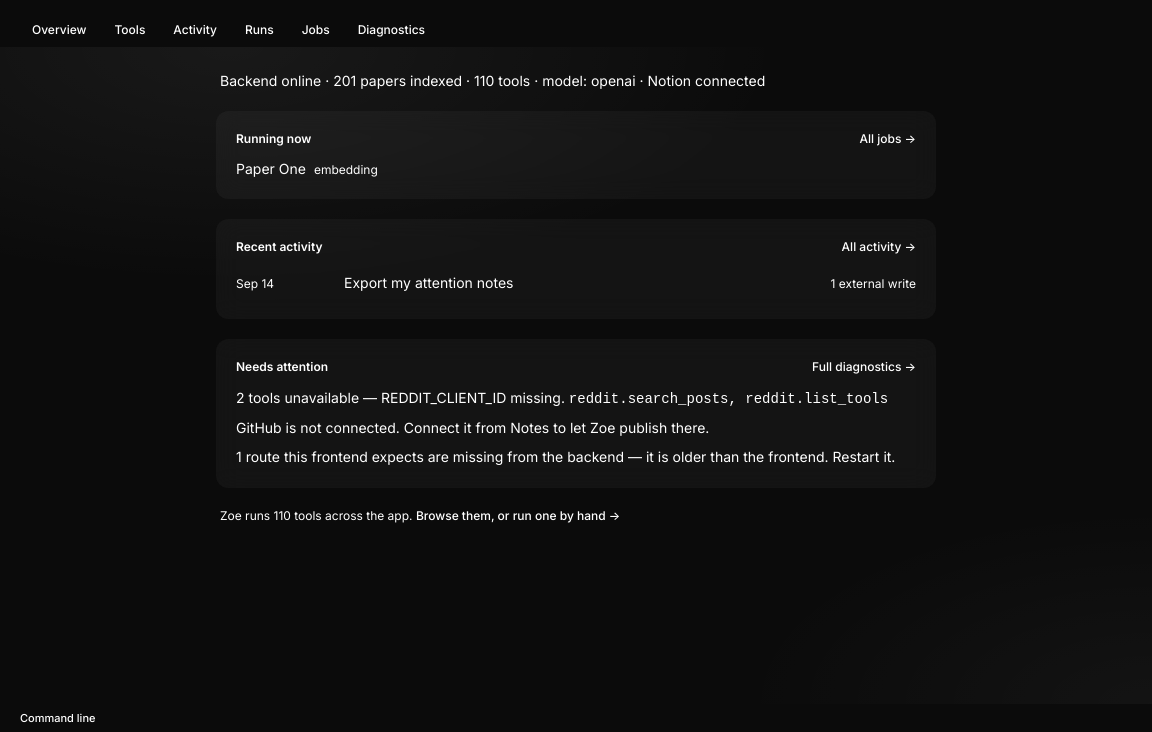
Test: ConsoleView › redirects plain language to Zoe instead of guessing
Check: the text with test id "overview-status" is shown, box [220,72,765,89]
Click the button "Command line" at (58,718), box [20,710,96,726]
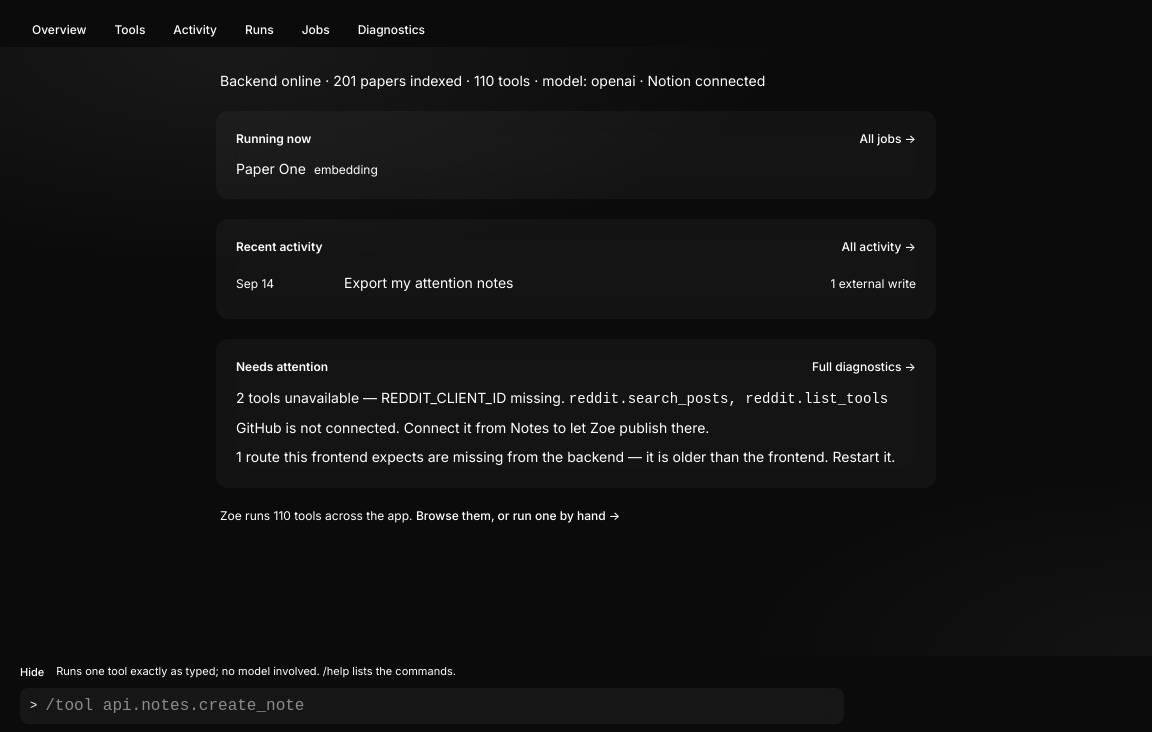
Type "which papers do I have about diffusion?" into the field named "Console command" at (440,706), box [45,694,834,718]
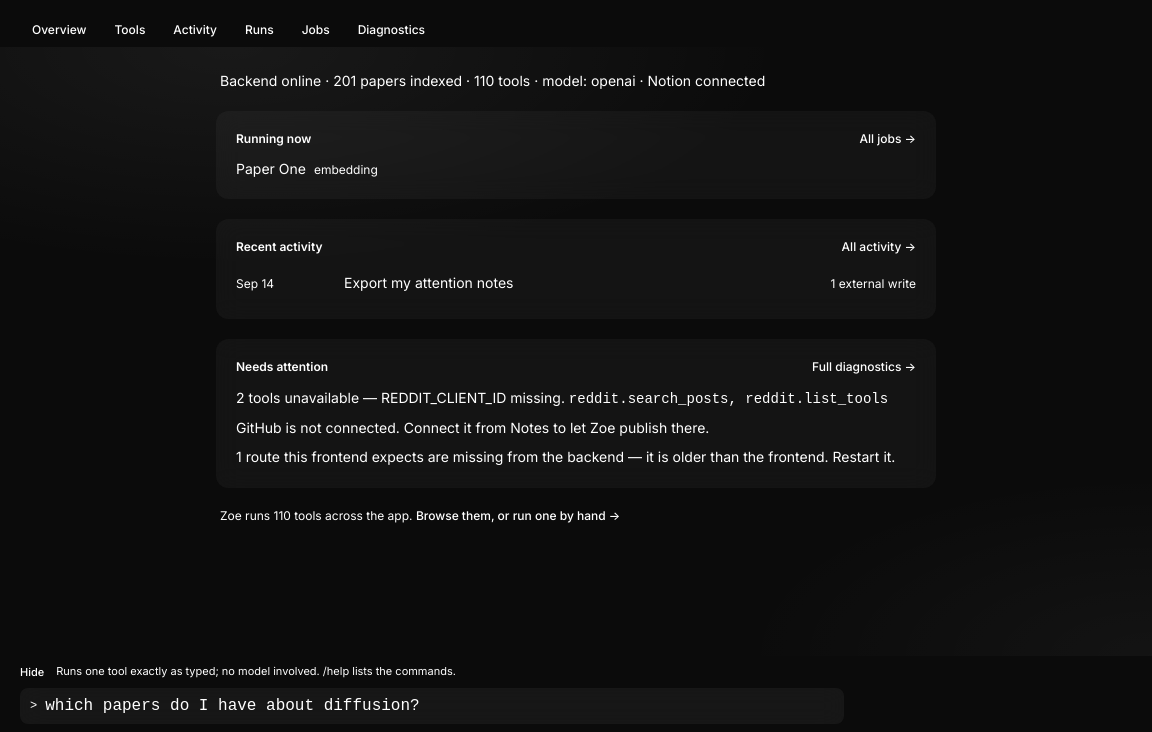
Submit the form named "Console command", box [0,680,864,731]
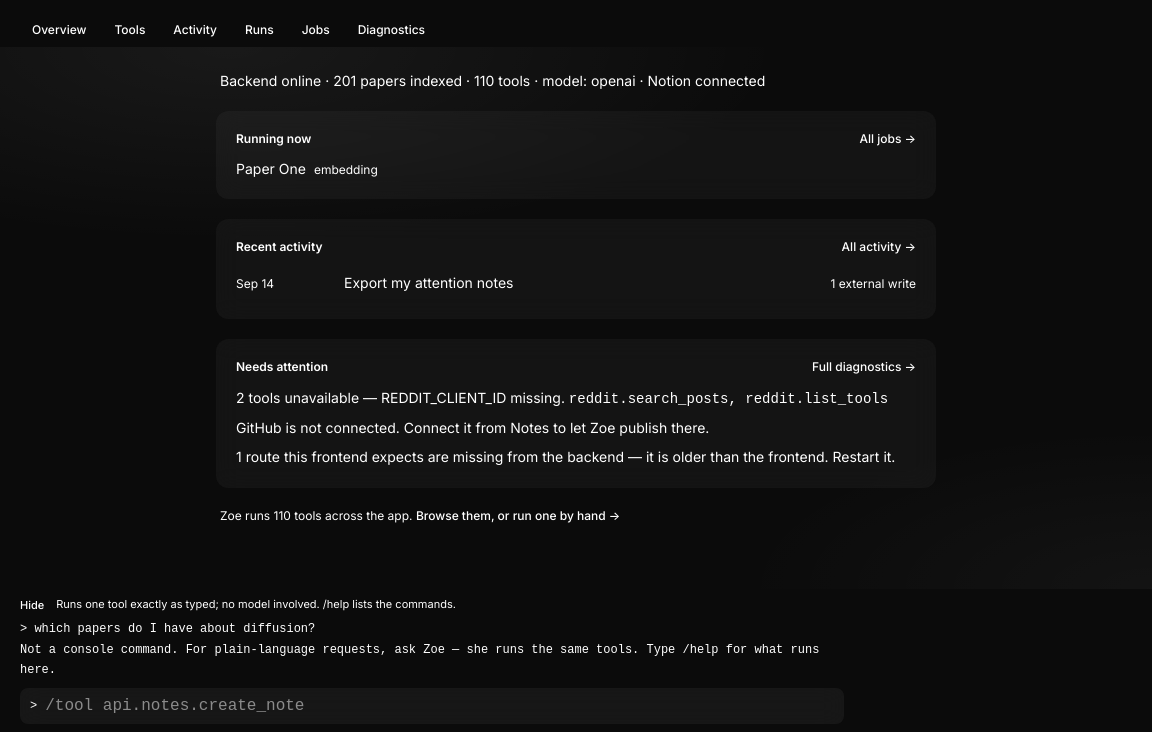
Check: the element with test id "command-output" shows "ask Zoe", box [20,643,826,676]
